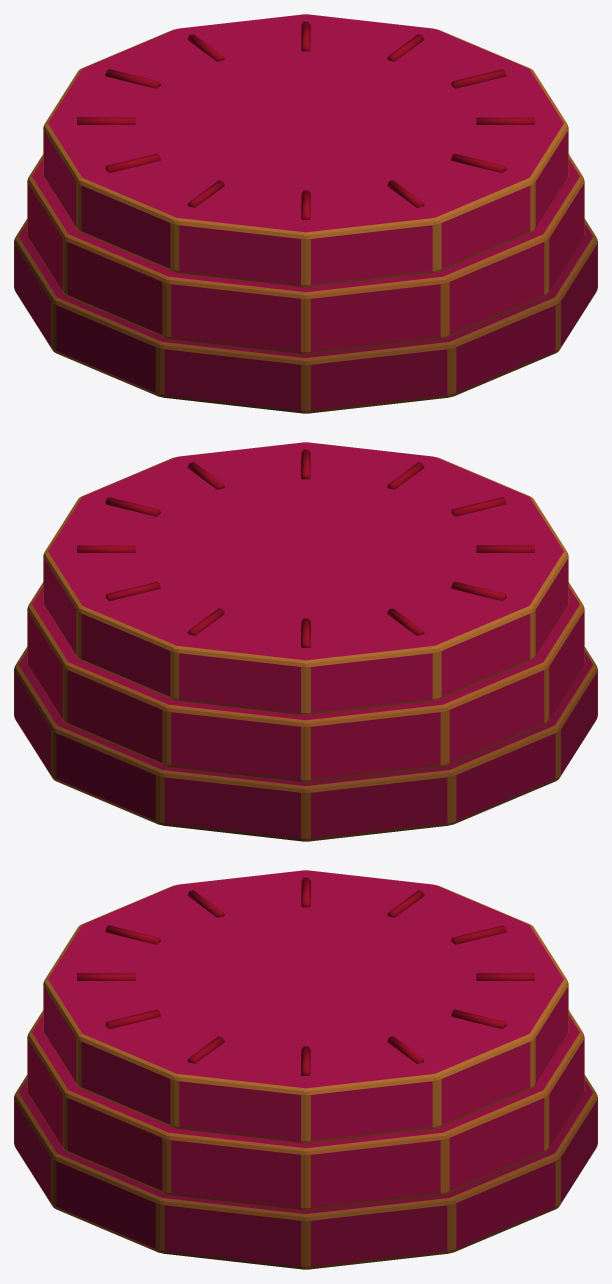
File: SM_RV_ArrivalPlinth.fbx
3 views of the same model, one above another, from view 1: azimuth 30°, elevation 25°; view 2: azimuth 150°, elevation 25°; view 3: azimuth 270°, elevation 25° (orthographic).
Parts seen in each view (by area): view 1: SM_RV_ArrivalPlinth; view 2: SM_RV_ArrivalPlinth; view 3: SM_RV_ArrivalPlinth.
Boxes of the visible parts, x1,y1,x2,y2 form: SM_RV_ArrivalPlinth: [14, 14, 597, 413]; SM_RV_ArrivalPlinth: [14, 442, 597, 841]; SM_RV_ArrivalPlinth: [14, 870, 597, 1269].
Size of what is drawn, in the model's own units: 219 by 219 by 72.12.
